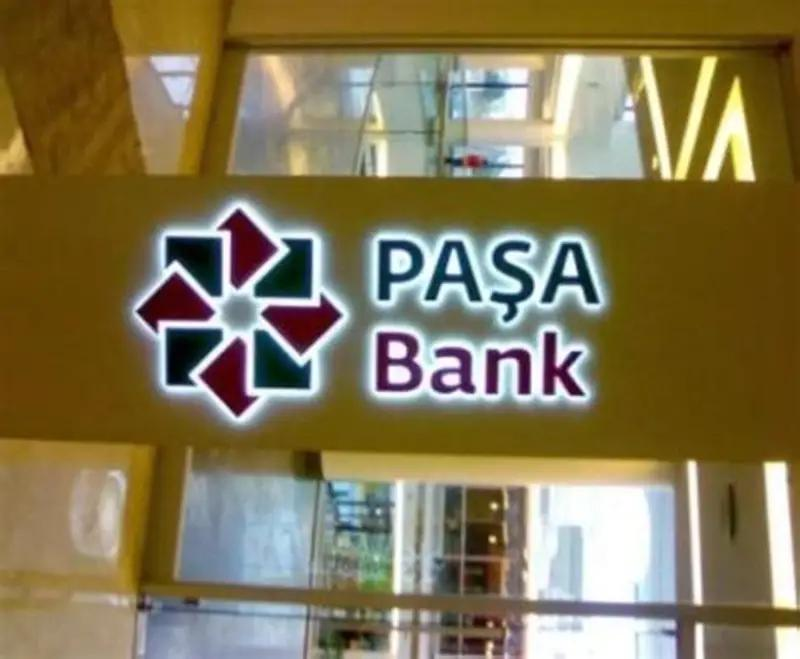Pasha Bank: (127, 197, 352, 430)
